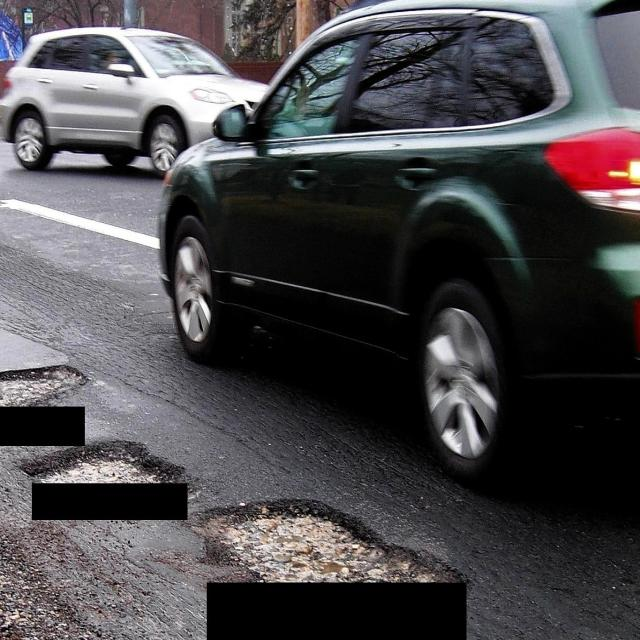road-pothole: (189, 500, 469, 589), (28, 440, 182, 477), (0, 364, 92, 413)
